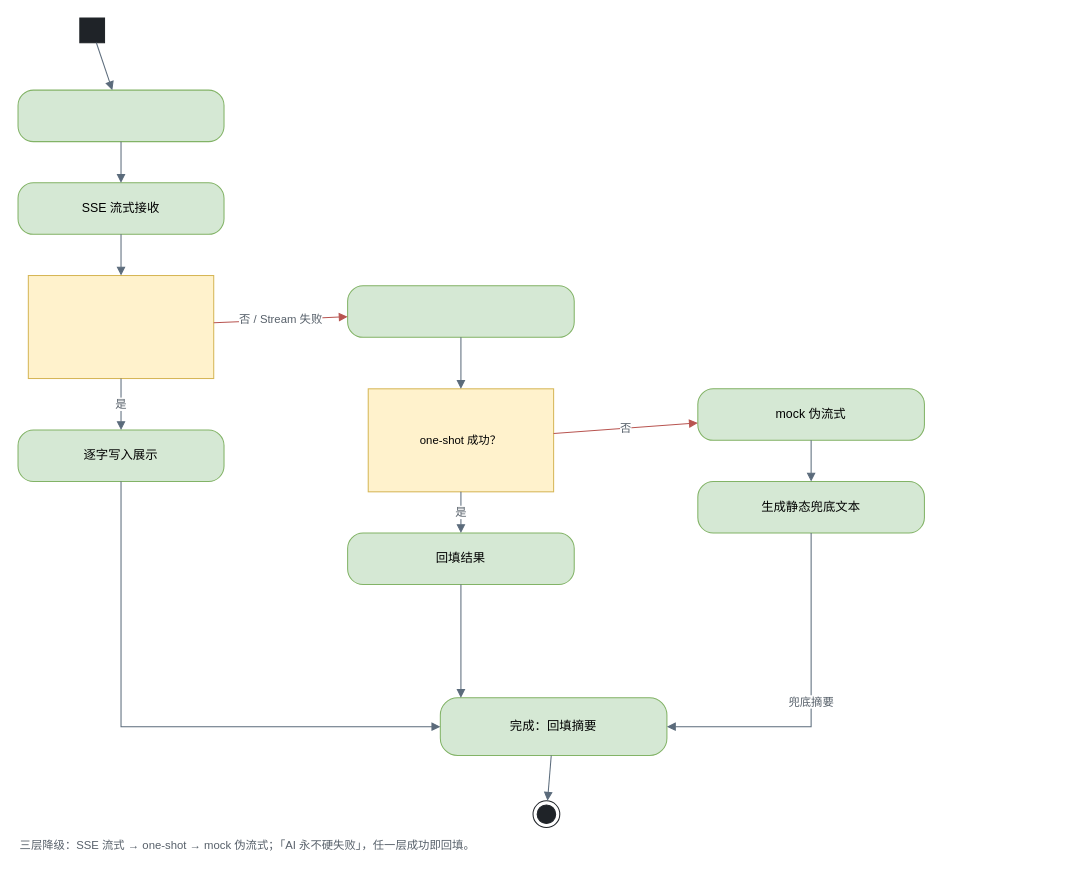
Some shapes in this 1066 by 870 pixel diagram are drawn without their labels. The centre of each missing label's shape, as x and y in pixels:
"回退 one-shot 生成" belongs at [460,311].
"触发生成摘要" belongs at [120,115].
"首个 chunk 到达？" belongs at [120,326].
